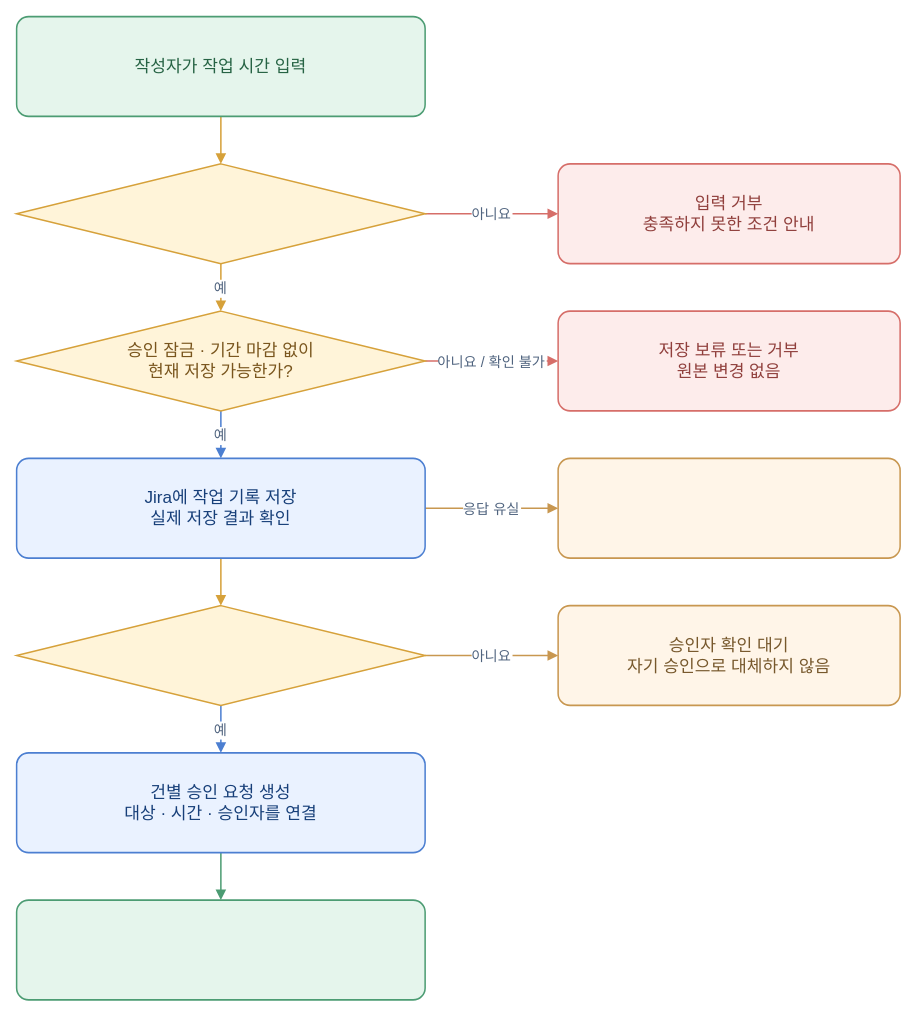
This 918x1017 diagram has some shape labels left out. Here are the shapes that lost their labels. From the top down, the centre of each, then its label:
At point (220, 213): "소속 · 이슈 접근 · 입력 기간 조건을 충족하는가?".
At point (728, 507): "저장 결과 불명확 원본 확인 후 후속 접수".
At point (220, 655): "승인 가능한 팀장이 확인되었는가?".
At point (220, 949): "작성자: 승인 대기 확인 팀장: 처리할 요청 일괄 조회".
